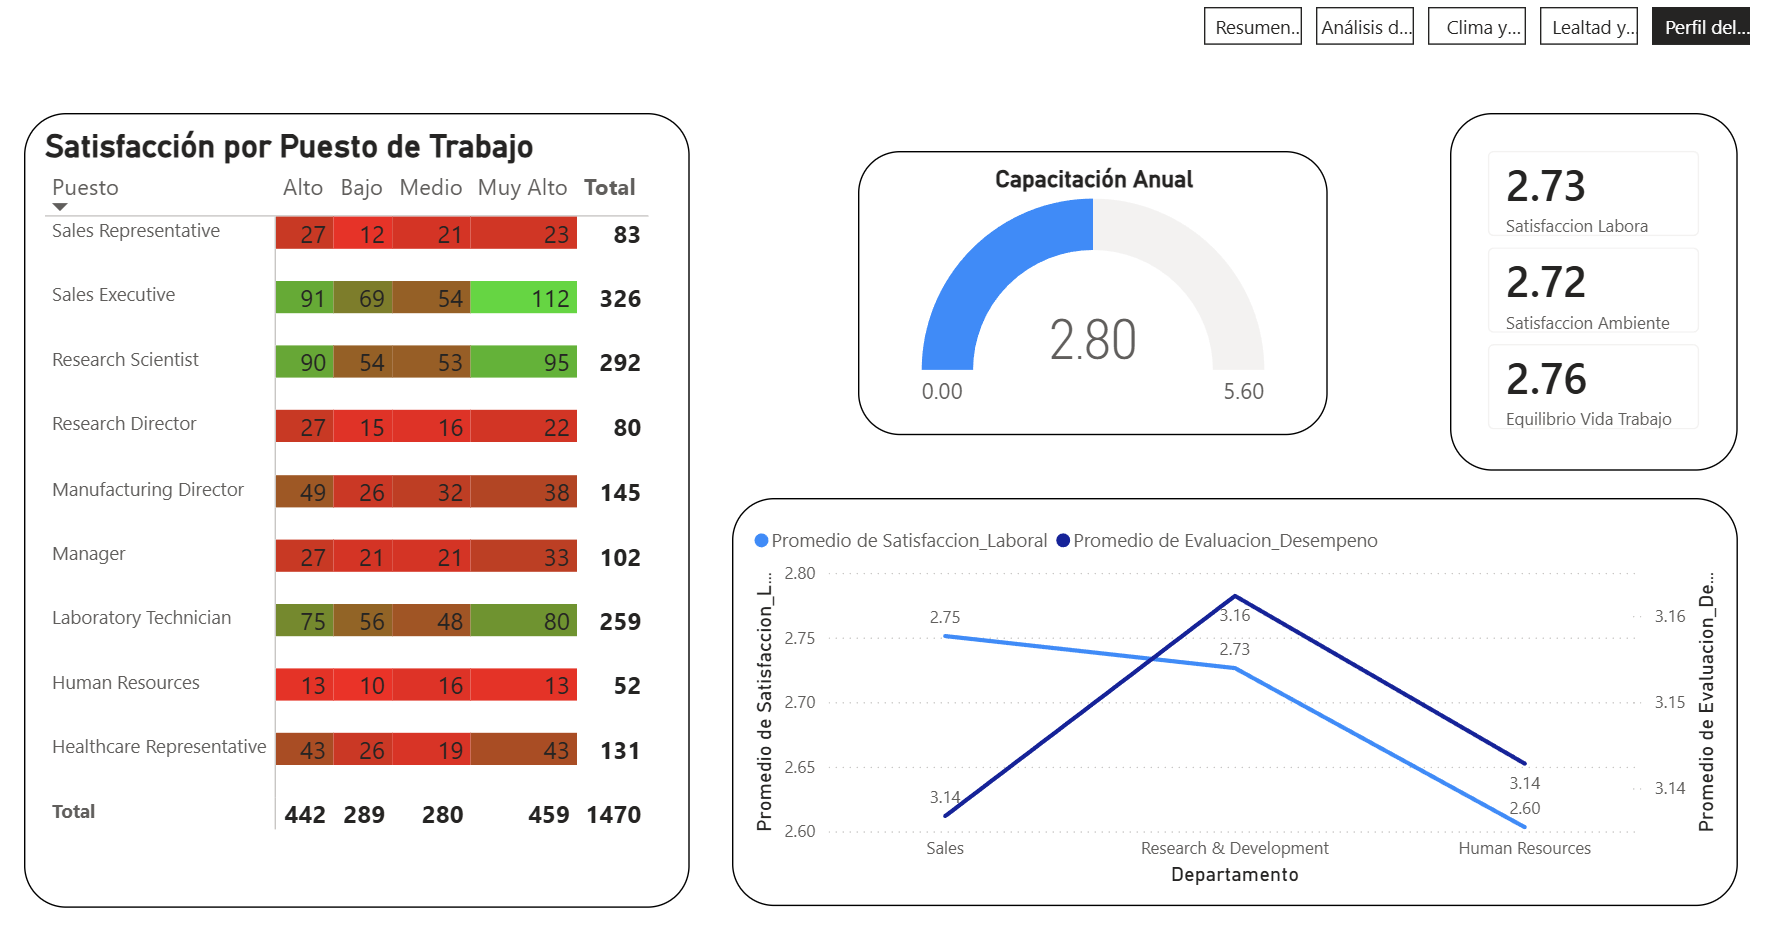

This screenshot's page, from the dashboard's own definition file:
{"tool":"powerbi","page":{"name":"Perfil del Talento","canvas":[1280,720],"ordinal":4},"visuals":[{"type":"pivotTable","title":"Satisfacción por Puesto de Trabajo","fields":{"Columns":["HR_Analytics_Limpio.Satisfaccion_Laboral_Etiqueta"],"Values":["CountNonNull(HR_Analytics_Limpio.ID_Empleado)"],"Rows":["HR_Analytics_Limpio.Puesto"]},"box":[25.7,90,475.7,567.1],"z":0},{"type":"gauge","title":"Capacitación Anual","fields":{"Y":["Avg(HR_Analytics_Limpio.TrainingTimesLastYear)"]},"box":[621.4,117.1,335.7,202.9],"z":1000},{"type":"cardVisual","fields":{"Data":["Avg(HR_Analytics_Limpio.Satisfaccion_Laboral)","Avg(HR_Analytics_Limpio.Satisfaccion_Ambiente)","Avg(HR_Analytics_Limpio.Equilibrio_Vida_Trabajo)"]},"box":[1044.3,90,205.7,255.7],"z":2000},{"type":"lineChart","fields":{"Category":["HR_Analytics_Limpio.Departamento"],"Y":["Avg(HR_Analytics_Limpio.Satisfaccion_Laboral)"],"Y2":["Avg(HR_Analytics_Limpio.Evaluacion_Desempeno)"]},"box":[531.4,364.3,718.6,291.4],"z":3000},{"type":"pageNavigator","box":[868.6,14.3,390,27.1],"z":4000}]}

Visuals, with their boxes on the page's 1280x720 design canvas (x1, y1, x2, y2). These are canvas units, not pixel positions in the 1770x940 screenshot, which may show the page scaled, cropped or inside an application window:
"Satisfacción por Puesto de Trabajo" pivotTable: detection(26, 90, 501, 657)
"Capacitación Anual" gauge: detection(621, 117, 957, 320)
cardVisual - Avg(HR_Analytics_Limpio.Satisfaccion_Laboral) x Avg(HR_Analytics_Limpio.Satisfaccion_Ambiente): detection(1044, 90, 1250, 346)
lineChart - HR_Analytics_Limpio.Departamento x Avg(HR_Analytics_Limpio.Satisfaccion_Laboral): detection(531, 364, 1250, 656)
pageNavigator: detection(869, 14, 1259, 41)
